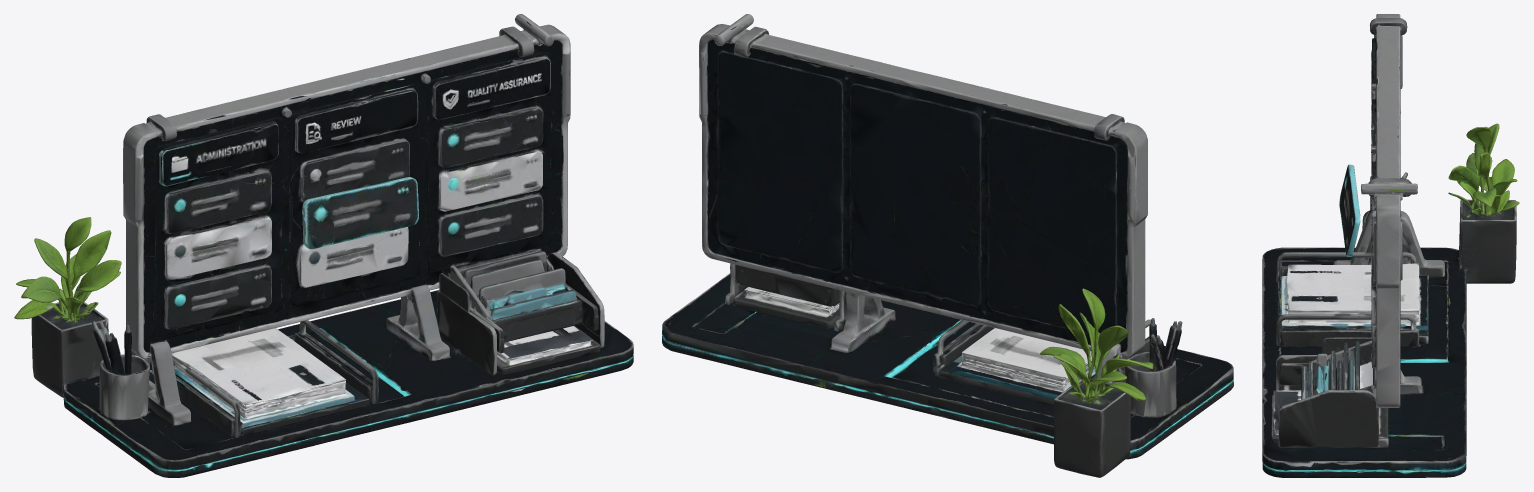
File: workflow-board-ff0d16ad4f.glb
3 renders of one model, left to right at view 1: azimuth 30°, elevation 25°; view 2: azimuth 150°, elevation 25°; view 3: azimuth 270°, elevation 25°, orthographic. The views are drawn at different scales.
Size of the model in its own units: 1.9 by 1.08 by 0.9125.
1 material, 1 textured.
